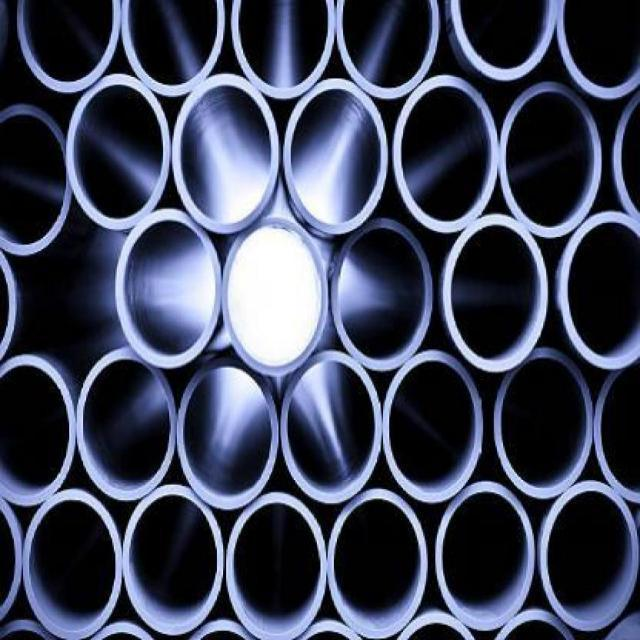pipe: (115, 209, 223, 368), (222, 217, 329, 375), (173, 73, 279, 232), (394, 75, 499, 233), (443, 216, 548, 373), (67, 72, 170, 230), (284, 80, 387, 234), (332, 218, 435, 371), (499, 84, 601, 238), (280, 349, 382, 503), (382, 351, 484, 504), (178, 358, 278, 511), (494, 348, 594, 498), (76, 350, 176, 500), (328, 490, 428, 640), (226, 493, 328, 639), (540, 481, 639, 631), (123, 486, 223, 634), (436, 481, 534, 631), (25, 489, 122, 640), (558, 210, 640, 370), (0, 355, 76, 508), (0, 102, 72, 254), (231, 1, 335, 100), (336, 0, 438, 100), (121, 0, 225, 97), (18, 1, 121, 94), (552, 0, 640, 102), (452, 0, 557, 82), (592, 364, 640, 506), (609, 92, 640, 229), (0, 499, 28, 625)
